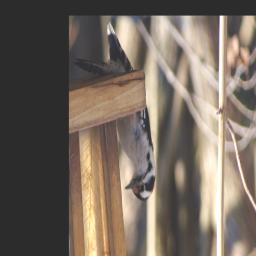Woodpecker: (74, 24, 156, 202)
